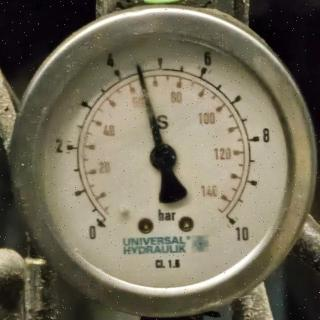gauge: (18, 22, 305, 306), (206, 199, 254, 245), (77, 202, 119, 246), (148, 143, 178, 173), (131, 60, 145, 76)
